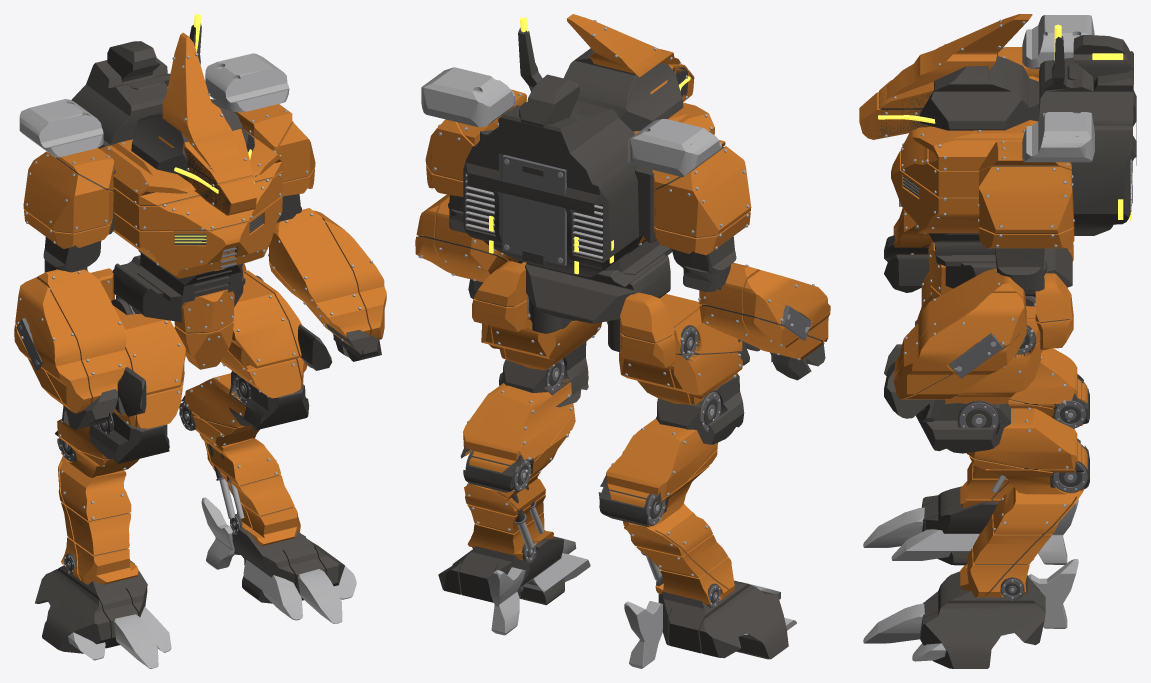
The model's file is wraith_blank_before.glb.
3 views of the same model, side by side, from view 1: azimuth 30°, elevation 25°; view 2: azimuth 150°, elevation 25°; view 3: azimuth 270°, elevation 25° (orthographic). The views are drawn at different scales.
Visible parts, largest first — view 1: forearm, chest, metatarsus, thigh, shoulder_pad, foot, shoulder_mount, crest, shin, knee, fist, backpack (+17 smaller); view 2: backpack, shin, forearm, foot, shoulder_pad, metatarsus, thigh, shoulder_mount, hip_plate, pelvis, neck, Detail_plate (+19 smaller); view 3: forearm, foot, backpack, shoulder_pad, shin, chest, metatarsus, neck, shoulder_mount, crest, fist, thigh (+21 smaller).
Boxes of the visible parts, <box> form: forearm: <box>14,208,386,413</box>; chest: <box>99,129,282,278</box>; metatarsus: <box>58,434,300,584</box>; thigh: <box>113,270,307,428</box>; shoulder_pad: <box>23,104,315,248</box>; foot: <box>35,527,344,653</box>; shoulder_mount: <box>19,53,289,157</box>; crest: <box>162,32,243,174</box>; shin: <box>57,373,259,477</box>; knee: <box>89,371,309,463</box>; fist: <box>62,323,381,429</box>; backpack: <box>71,58,170,148</box>; backpack: <box>463,101,643,277</box>; shin: <box>463,378,717,527</box>; forearm: <box>415,194,830,359</box>; foot: <box>438,536,788,659</box>; shoulder_pad: <box>425,89,751,255</box>; metatarsus: <box>464,473,734,605</box>; thigh: <box>481,262,742,405</box>; shoulder_mount: <box>421,67,721,177</box>; hip_plate: <box>472,261,675,368</box>; pelvis: <box>525,244,670,323</box>; neck: <box>563,48,683,131</box>; Detail_plate: <box>502,154,566,266</box>; forearm: <box>893,208,1026,399</box>; foot: <box>920,486,1045,668</box>; backpack: <box>1039,51,1136,235</box>; shoulder_pad: <box>979,47,1074,248</box>; shin: <box>966,348,1087,494</box>; chest: <box>891,76,1038,233</box>; metatarsus: <box>960,428,1083,597</box>; neck: <box>919,56,1039,130</box>; shoulder_mount: <box>1022,15,1094,162</box>; crest: <box>886,14,1032,99</box>; fist: <box>884,235,945,421</box>; thigh: <box>916,271,1043,403</box>.
Bounding box in the file's own units: 6.34 × 10.14 × 4.31.
